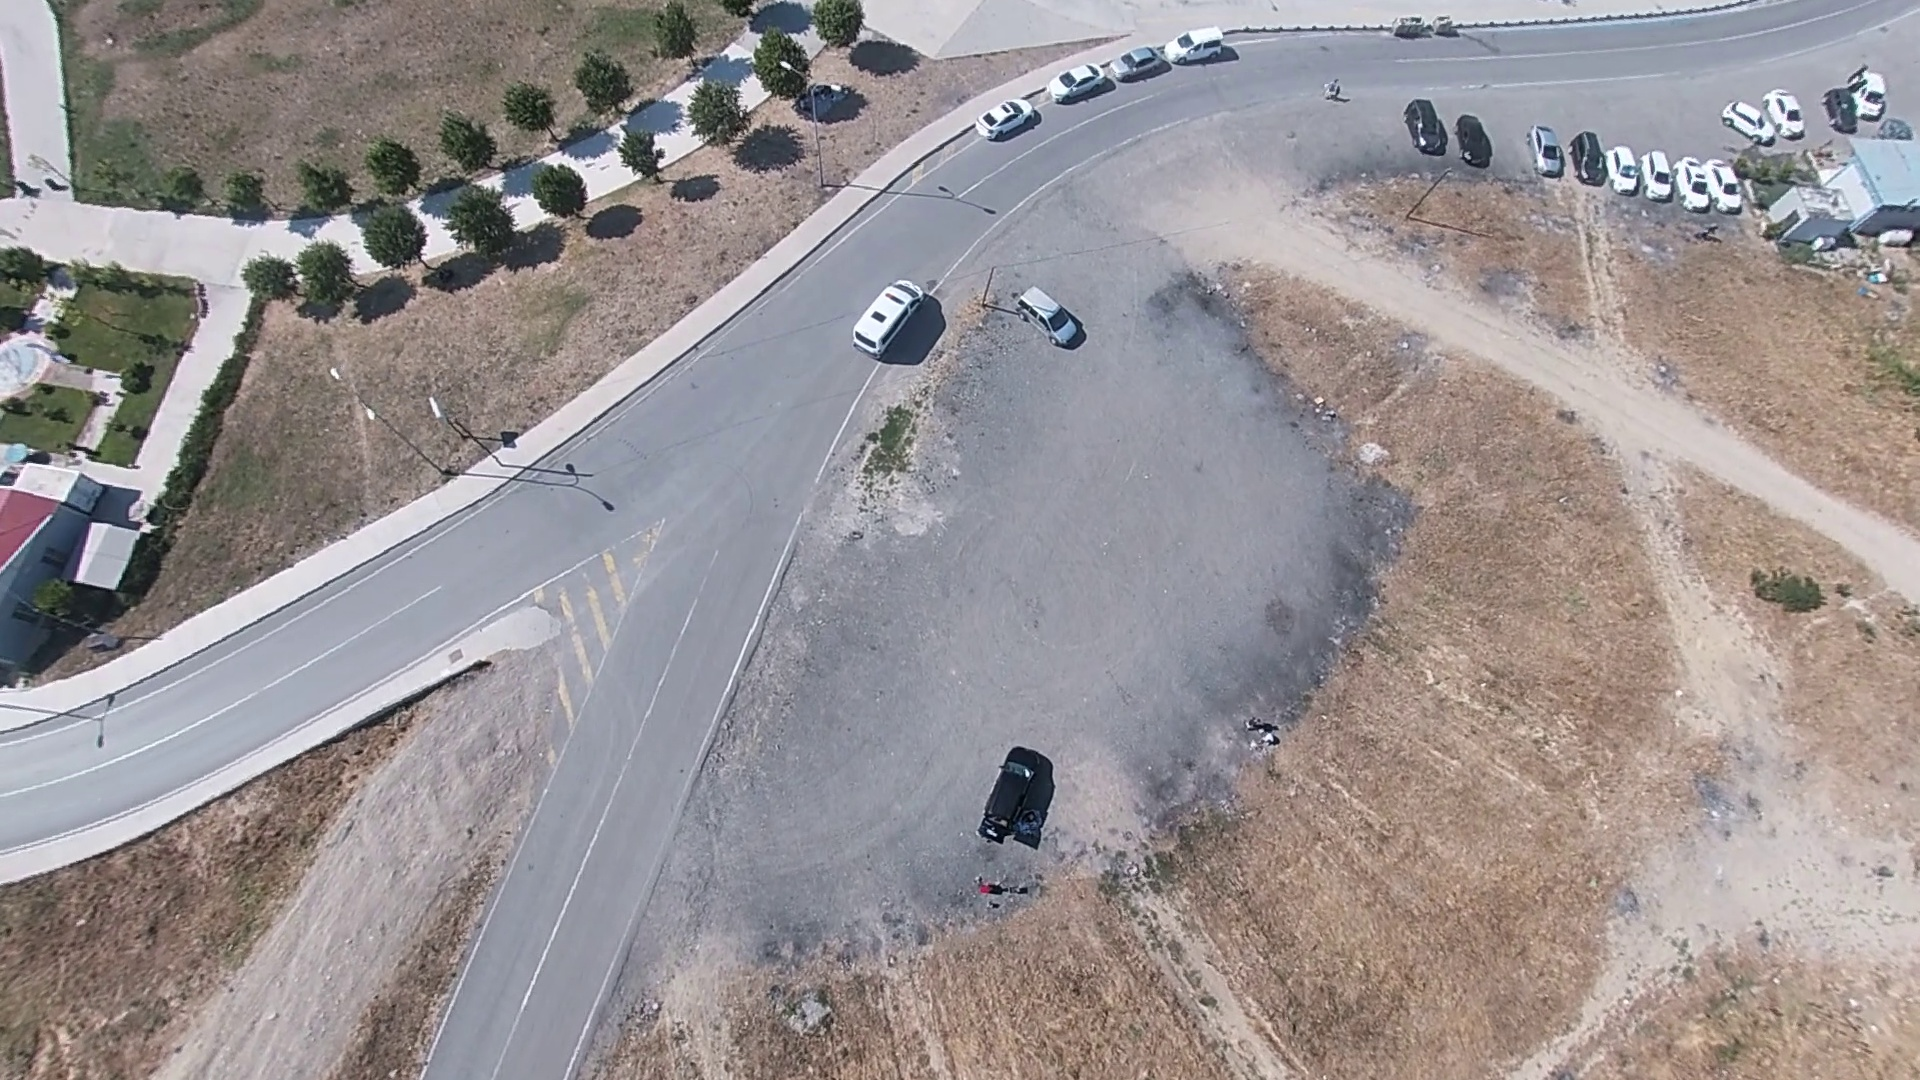arac: (976, 751, 1049, 848), (852, 271, 929, 356), (1017, 281, 1090, 346), (1041, 60, 1106, 106), (1701, 157, 1745, 221), (971, 97, 1036, 140), (1762, 86, 1808, 145), (1723, 92, 1775, 144), (1164, 26, 1225, 69), (1849, 69, 1894, 125), (1109, 42, 1165, 84), (1816, 87, 1860, 138), (1673, 153, 1710, 211), (1404, 99, 1442, 153), (1526, 121, 1563, 176), (1568, 129, 1604, 184), (1602, 143, 1639, 195), (1455, 115, 1492, 165), (1639, 150, 1676, 201)
insan: (1320, 76, 1344, 101)
